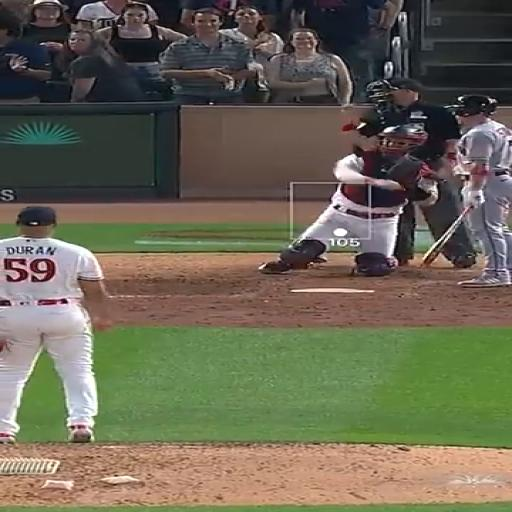bat: (420, 205, 472, 267)
